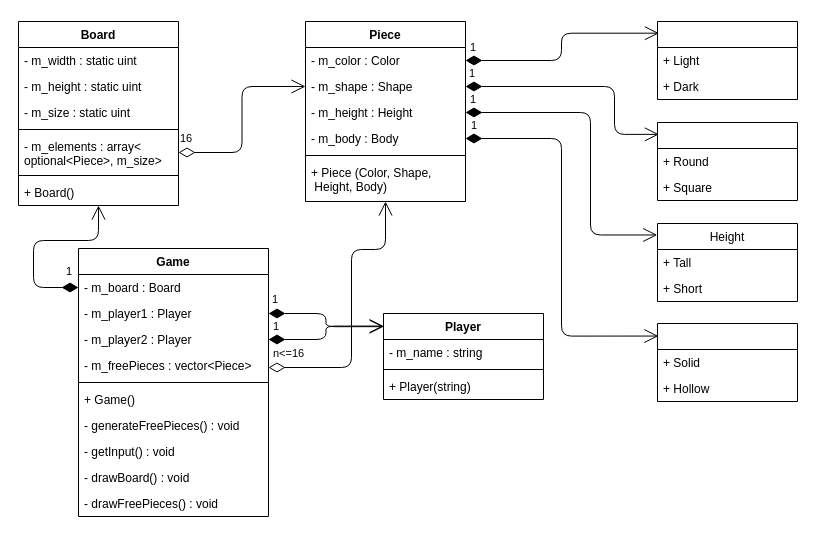
The diagram is 815 pixels wide and 537 high, and some of its shapes have lost their labels. Here are the shapes that lost their labels. From the top down, the box of each, then its label:
(656, 20, 798, 100): Color
(656, 122, 798, 200): Shape
(656, 322, 798, 402): Body
